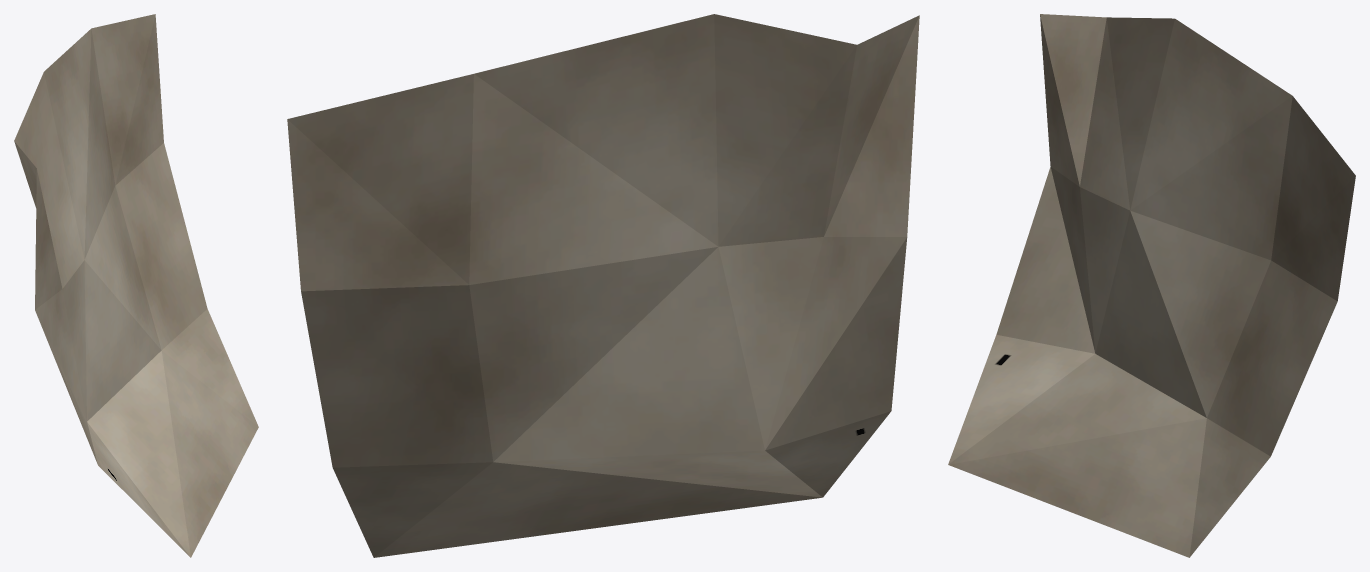
File: web_04.fbx
The picture shows the model from 3 angles, left to right: view 1: azimuth 30°, elevation 25°; view 2: azimuth 150°, elevation 25°; view 3: azimuth 270°, elevation 25°; orthographic projection. The views are drawn at different scales.
Visible parts, largest first — view 1: obj0.170; view 2: obj0.170; view 3: obj0.170.
Part boxes in pixels (left/top/right/bottom): obj0.170: left=14, top=14, right=258, bottom=557; obj0.170: left=287, top=14, right=919, bottom=557; obj0.170: left=948, top=14, right=1355, bottom=557.
Size of the model in its own units: 4.99 by 6.71 by 5.8.
